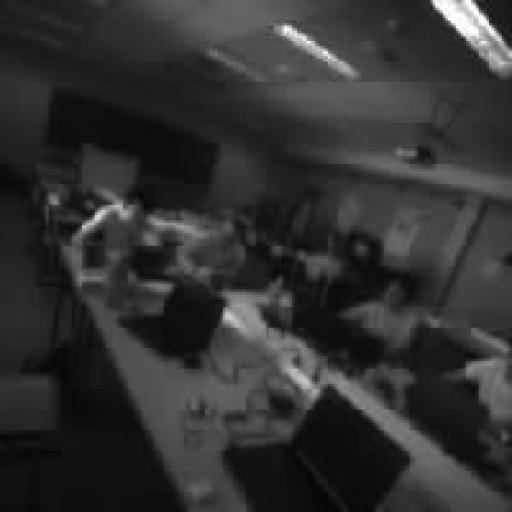human: (338, 277, 422, 358), (72, 187, 151, 258), (448, 356, 511, 437), (177, 218, 245, 286)
